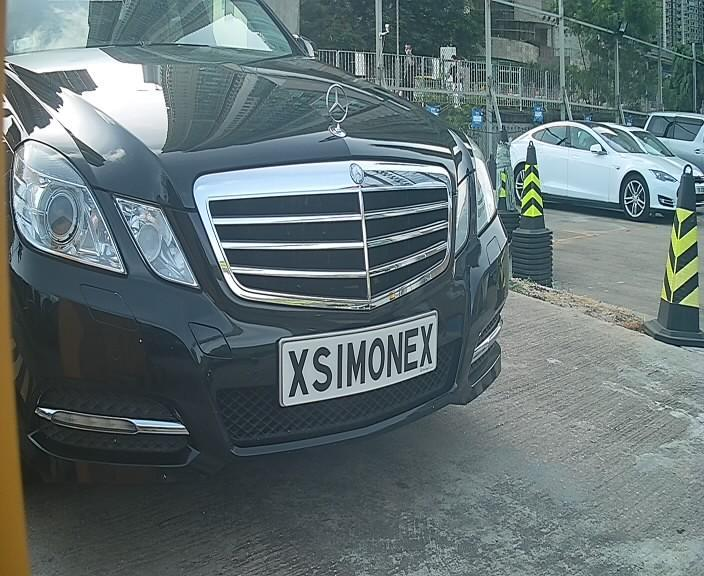privatecar: (1, 1, 551, 469)
